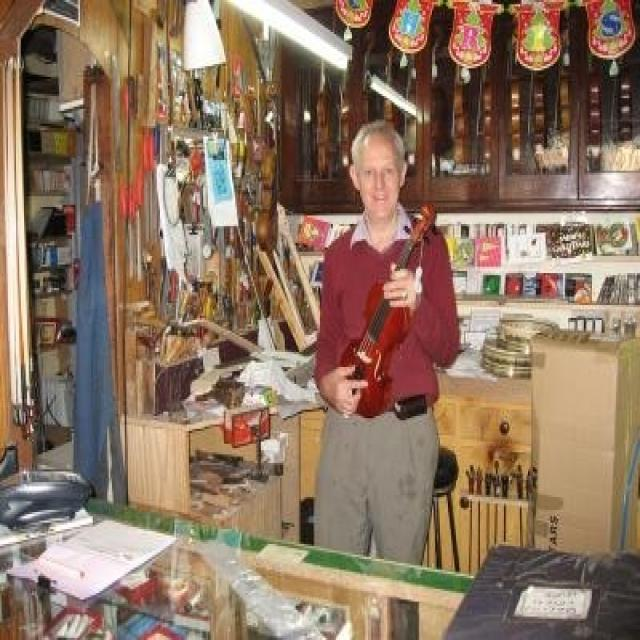violin: (337, 201, 437, 421)
